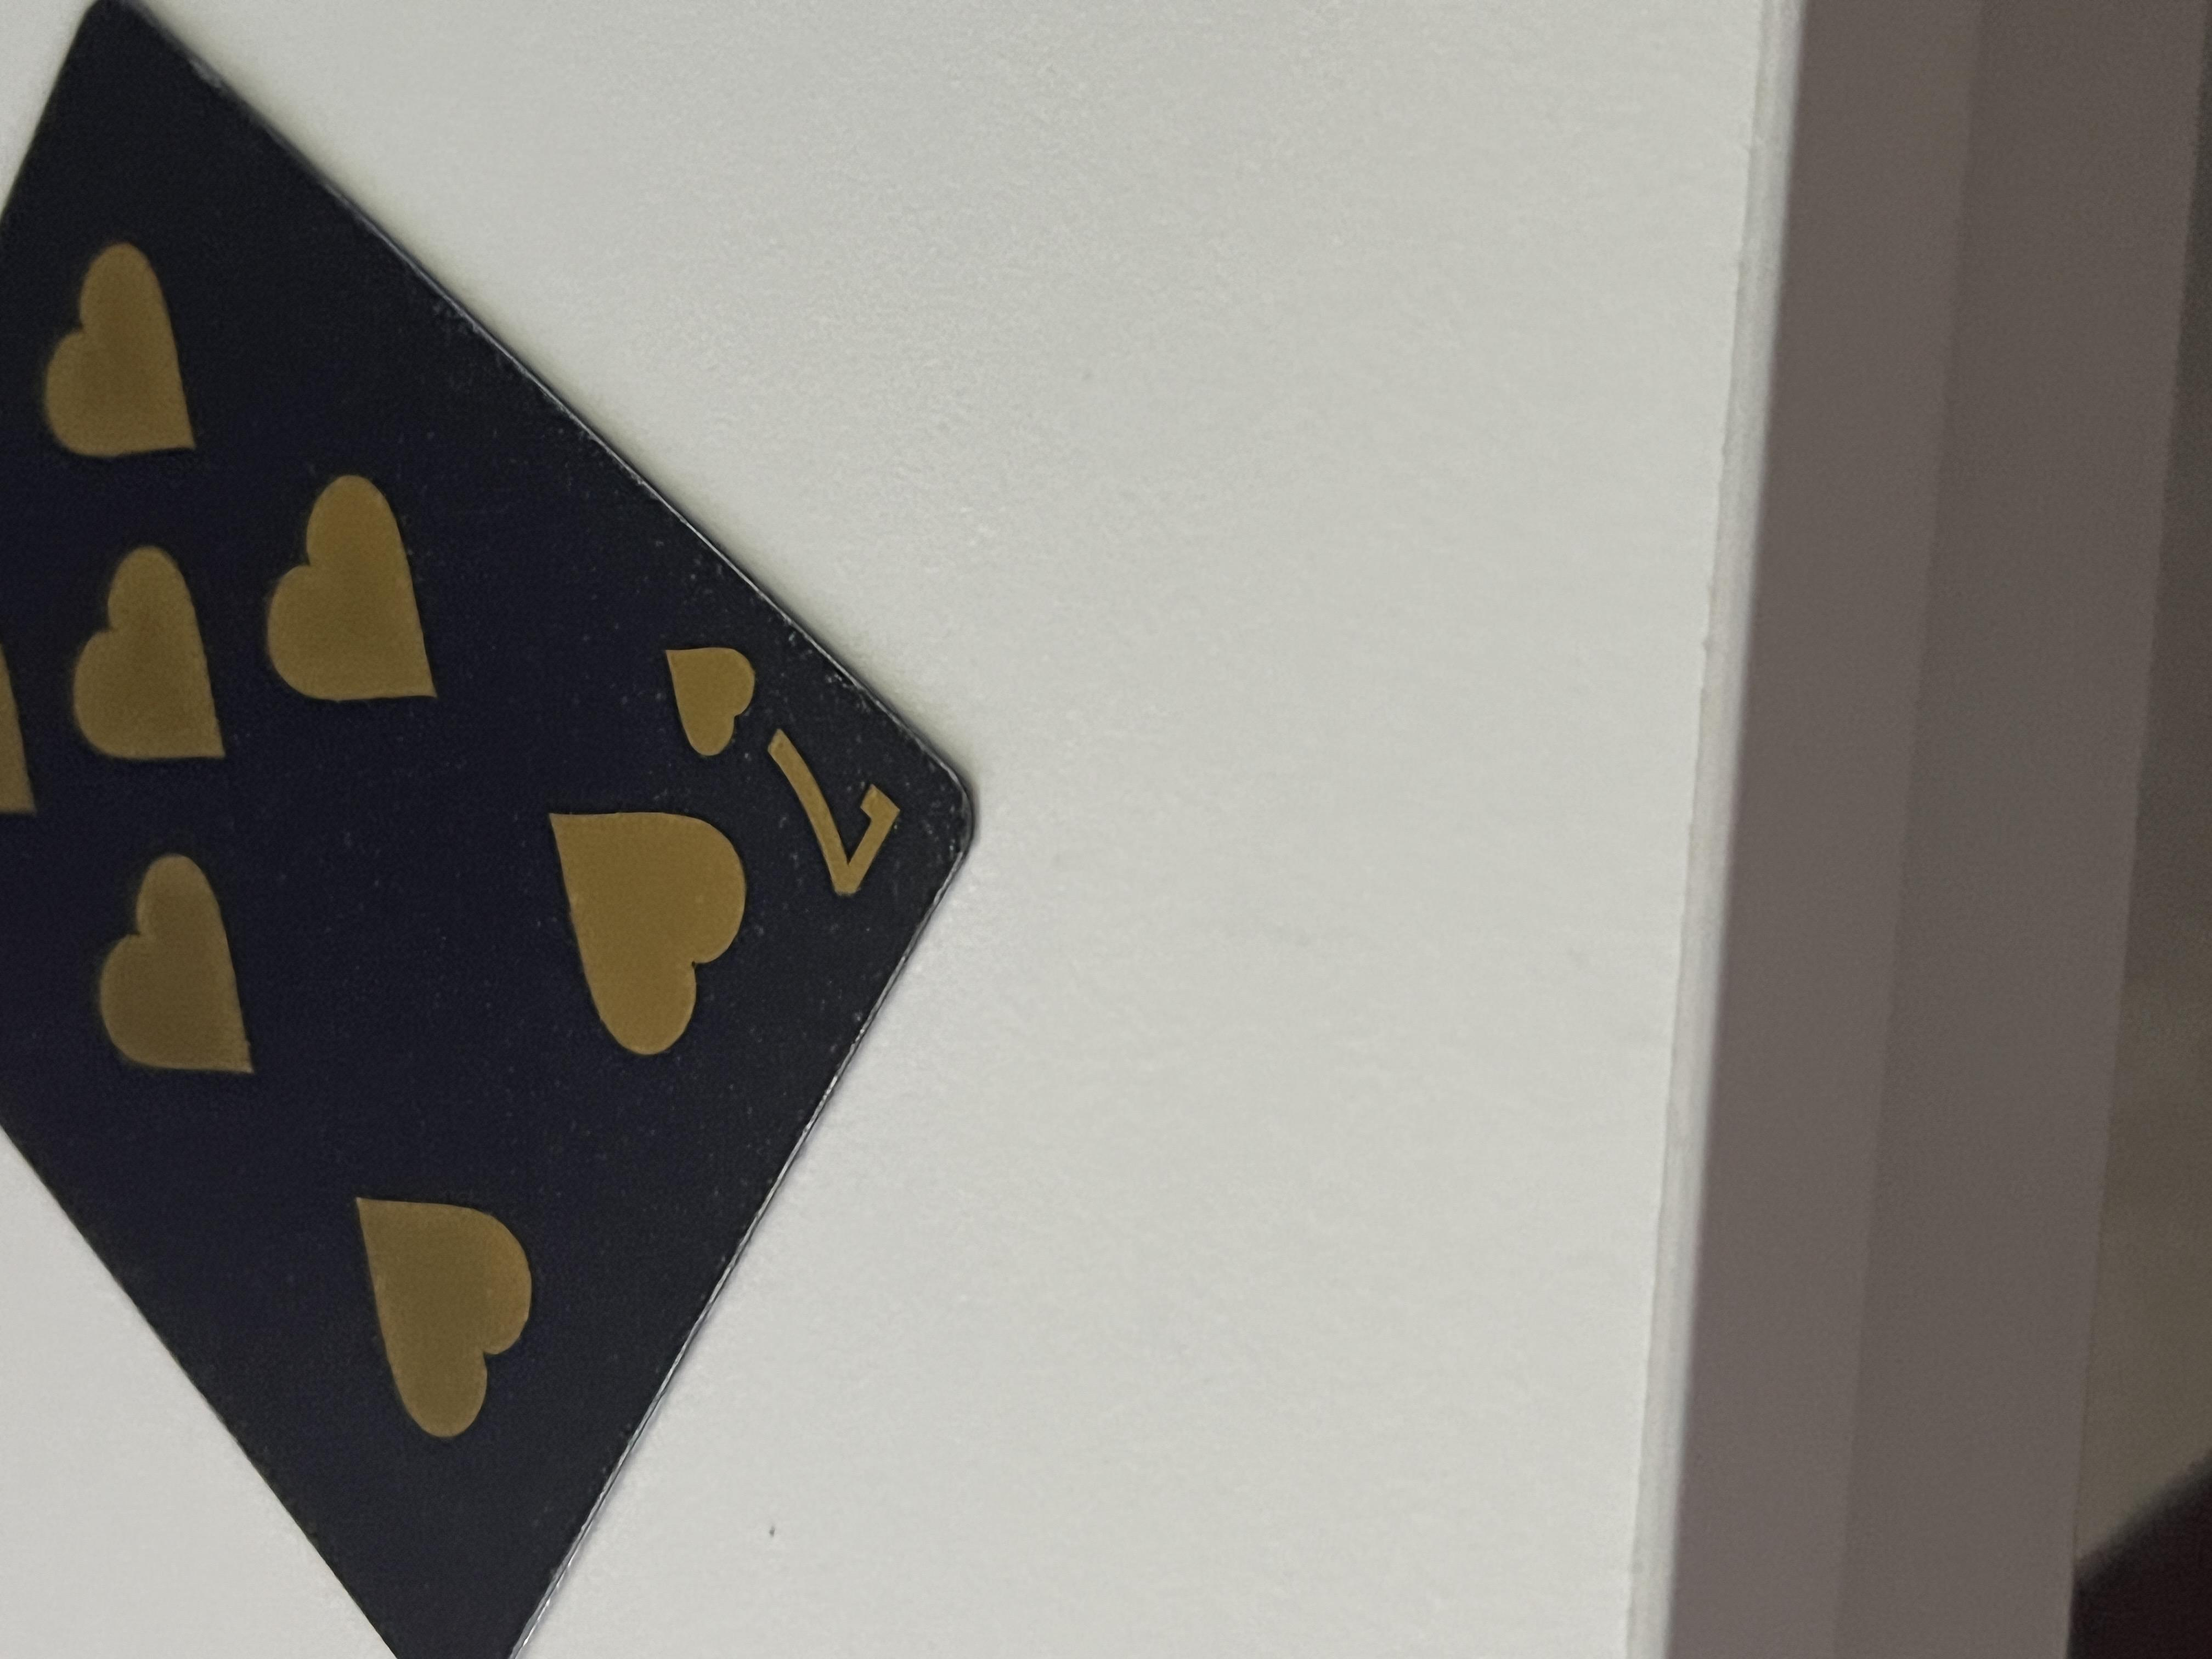7H: (1005, 465, 1379, 702)
